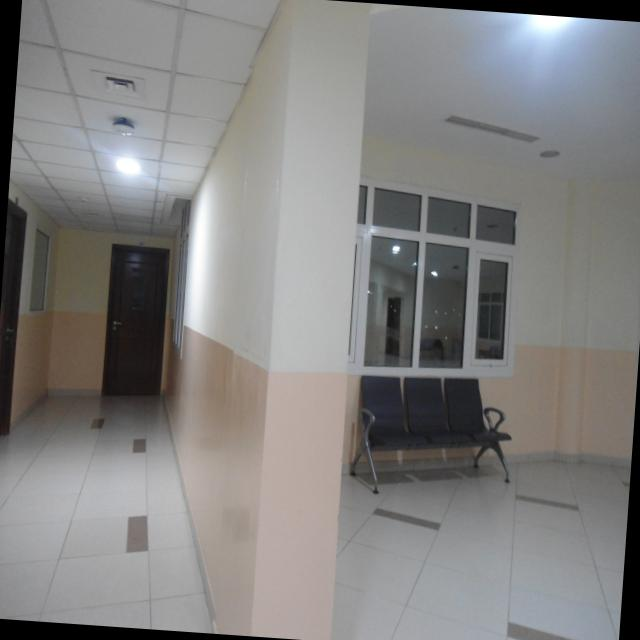bench: (346, 360, 516, 494)
door: (98, 235, 176, 394), (0, 204, 27, 463)
wall: (155, 0, 377, 640)
window: (342, 175, 532, 371)
